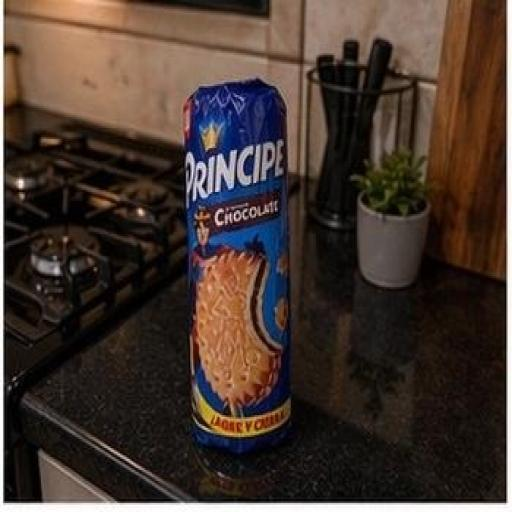prince: (99, 37, 365, 483)
